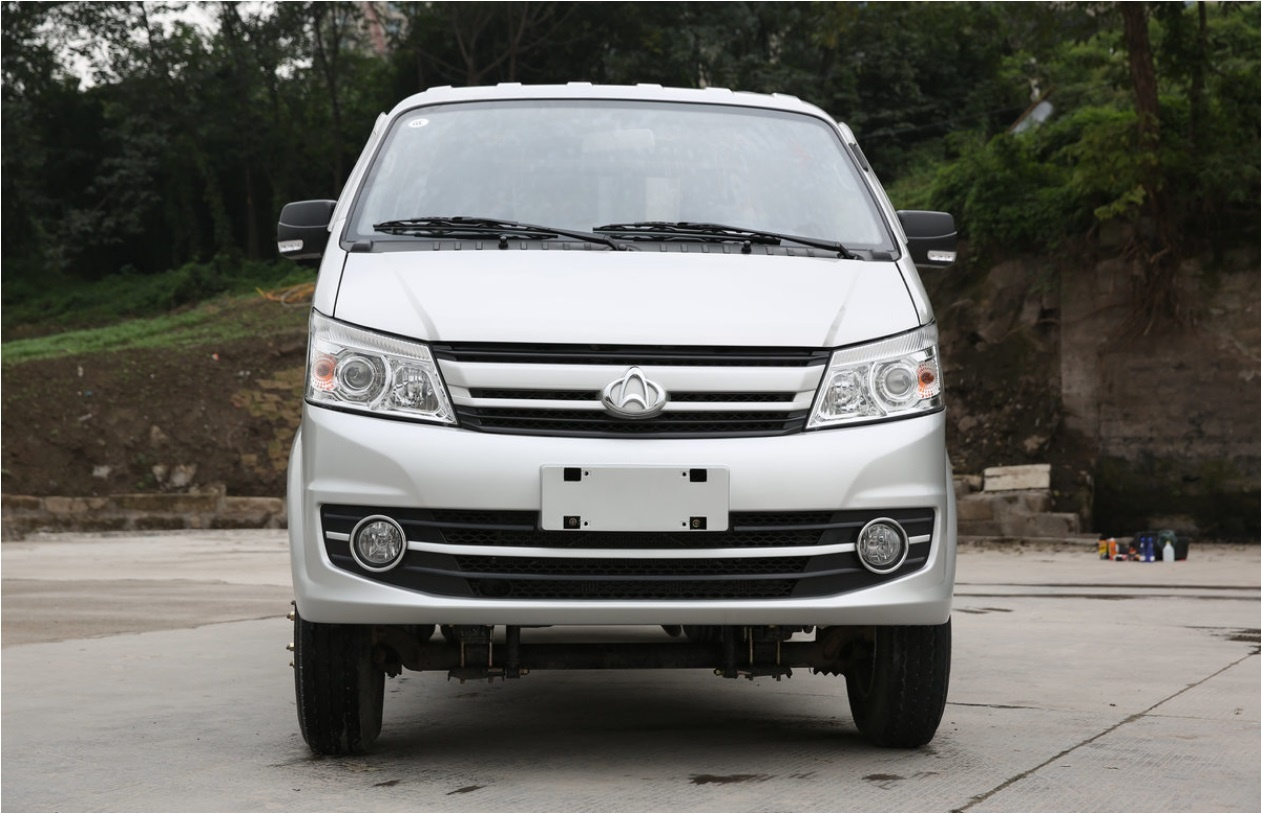minibus: (253, 55, 971, 768)
